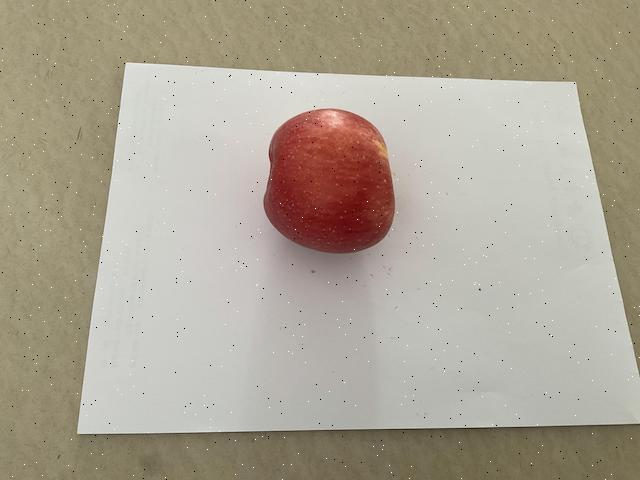apple: (260, 103, 400, 258)
